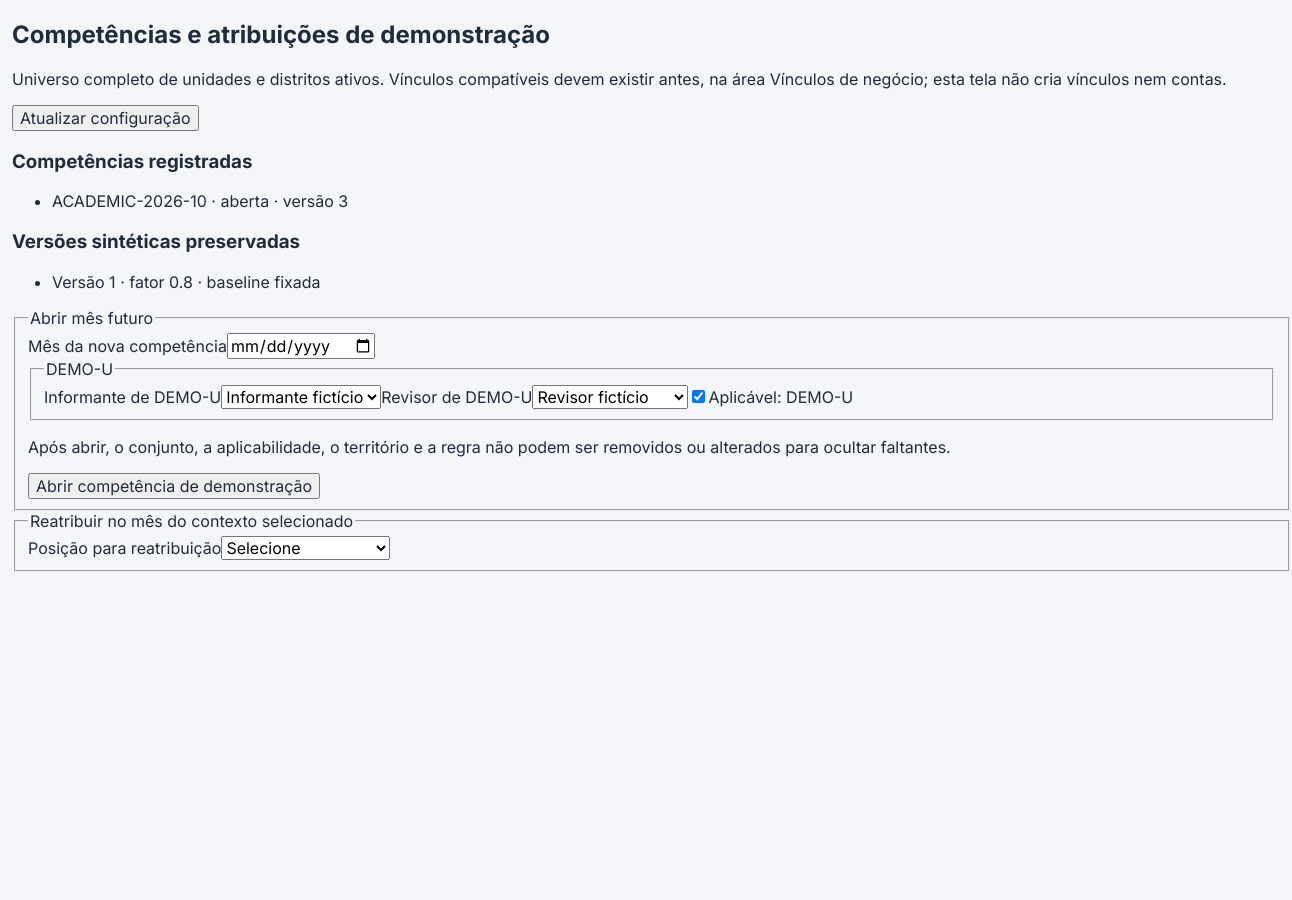
Scenario: future configuration command boundary › excludes expired and future assignments from suggestions and initial selection using the Recife civil date
expect the dropdown labelled "Informante de DEMO-U" shows "Informante fictício": met, box 221,385 -> 381,409
expect the dropdown labelled "Revisor de DEMO-U" shows "Revisor fictício": met, box 532,385 -> 688,409
Select "DEMO-U · versão 2" in the dropdown labelled "Posição para reatribuição" at (306, 548), box 221,536 -> 390,560
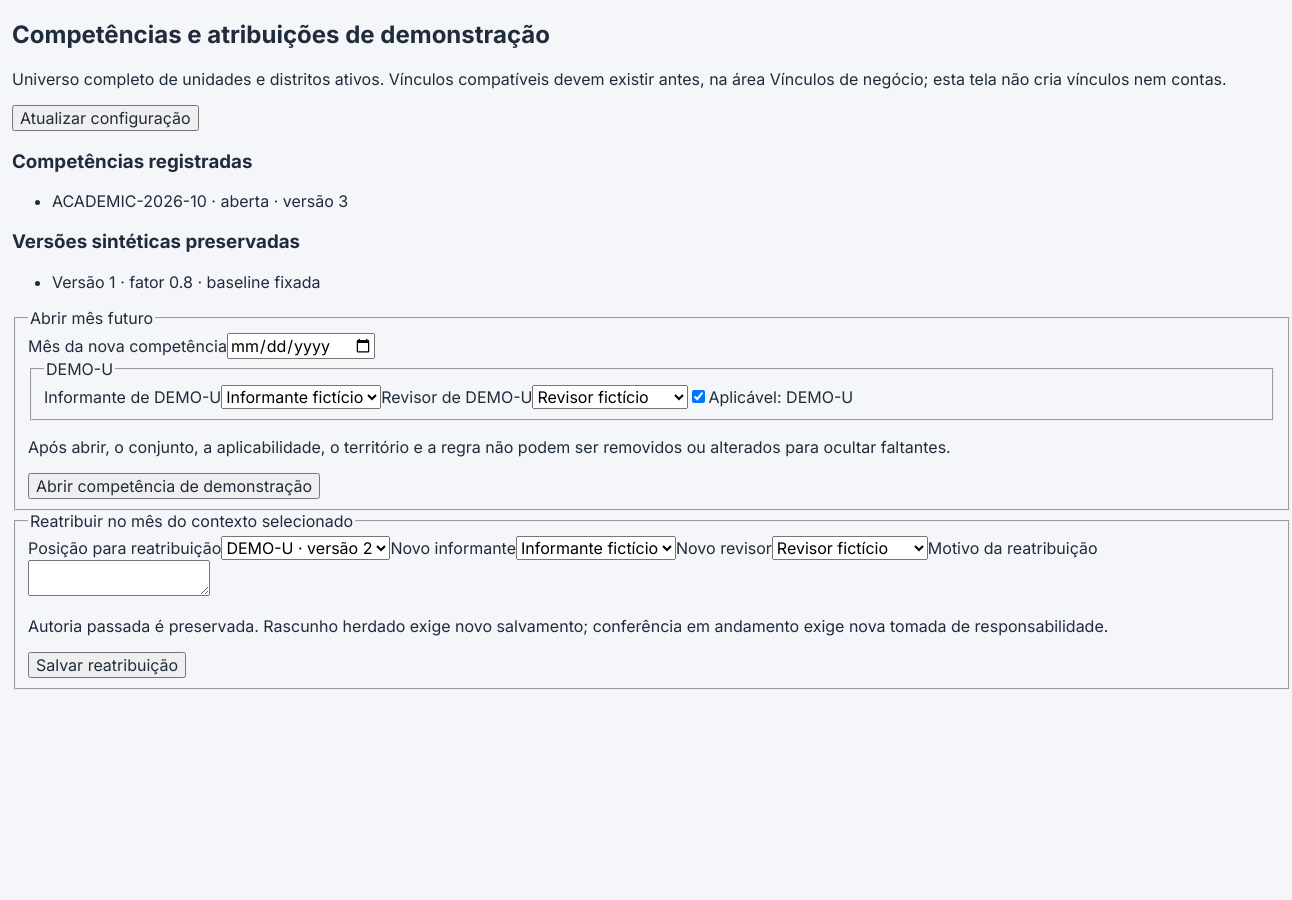
expect the dropdown labelled "Novo informante" shows "Informante fictício": met, box 516,536 -> 676,560
expect the dropdown labelled "Novo revisor" shows "Revisor fictício": met, box 772,536 -> 928,560
